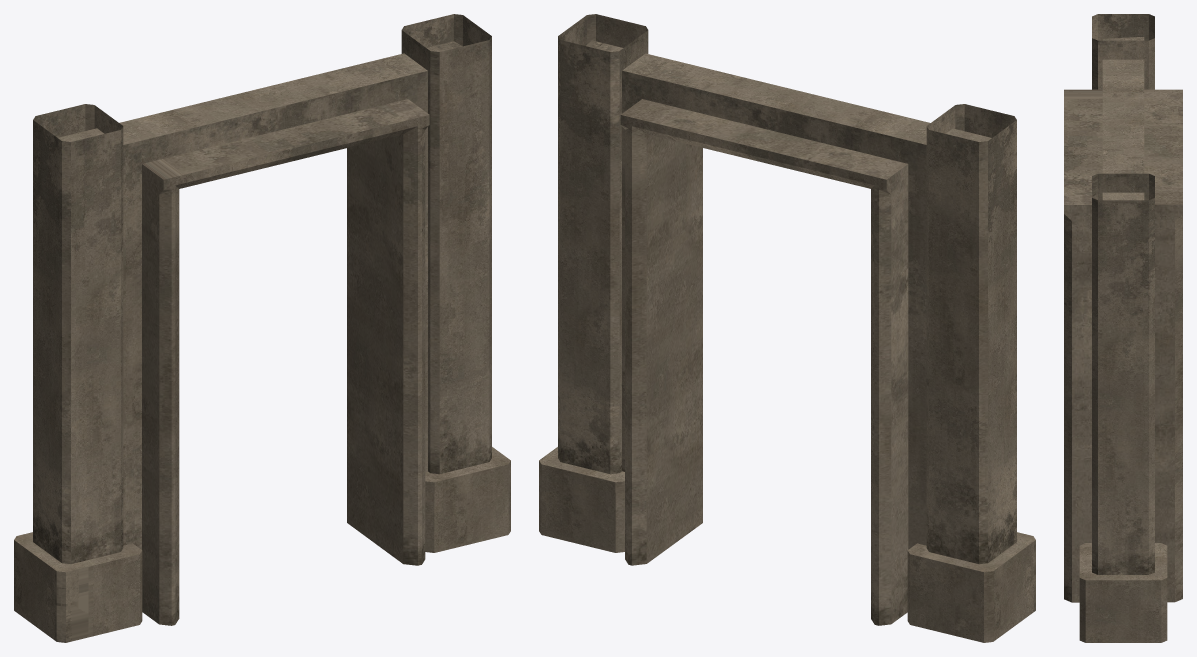
The model's file is SM_Bunker_DoorWay.glb.
The picture shows the model from 3 angles, left to right: view 1: azimuth 30°, elevation 25°; view 2: azimuth 150°, elevation 25°; view 3: azimuth 270°, elevation 25°; orthographic projection. The views are drawn at different scales.
Visible parts, largest first — view 1: SM_BunkerDoorWay; view 2: SM_BunkerDoorWay; view 3: SM_BunkerDoorWay.
Part boxes in pixels (x1,y1,x2,y2): SM_BunkerDoorWay: [14, 14, 510, 642]; SM_BunkerDoorWay: [539, 14, 1035, 642]; SM_BunkerDoorWay: [1064, 14, 1182, 642].
Size of the model in its own units: 2.22 by 2.3 by 0.5658.
Materials: 1 (1 with a texture image).
